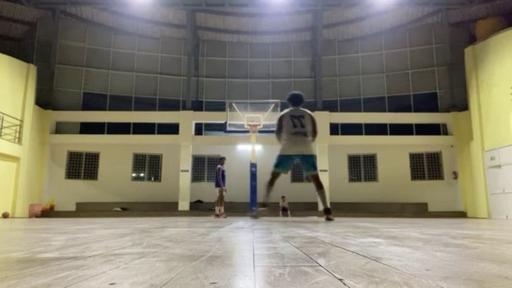ball: (2, 212, 10, 219)
human: (251, 90, 334, 221), (215, 157, 228, 219), (278, 195, 292, 217)
rim: (248, 124, 260, 135)
